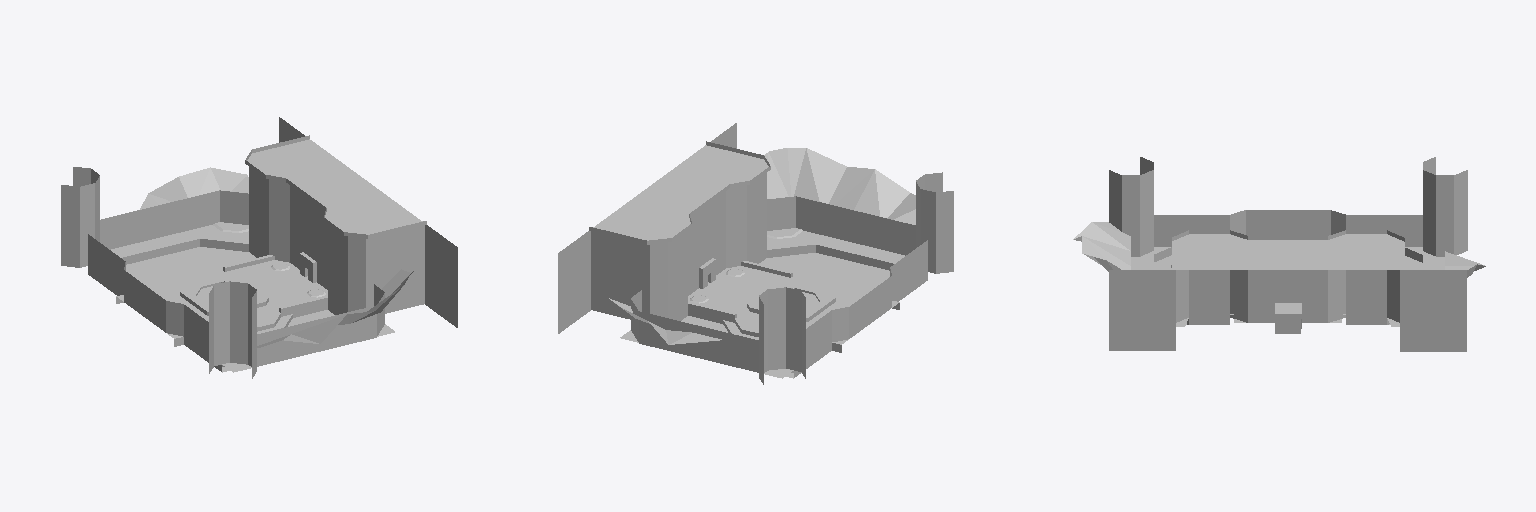
Rendered from Castle Courtyard.obj.
3 views of the same model, side by side, from view 1: azimuth 30°, elevation 25°; view 2: azimuth 150°, elevation 25°; view 3: azimuth 270°, elevation 25° (orthographic).
Visible parts, largest first — view 1: Shape_IndexedFaceSet.019_Shape_IndexedFaceSet.433, Shape_IndexedFaceSet.020_Shape_IndexedFaceSet.434, Shape_IndexedFaceSet.014_Shape_IndexedFaceSet.428, Shape_IndexedFaceSet.018_Shape_IndexedFaceSet.432, Shape_IndexedFaceSet.012_Shape_IndexedFaceSet.426, Shape_IndexedFaceSet.013_Shape_IndexedFaceSet.427, Shape_IndexedFaceSet.048_Shape_IndexedFaceSet.462; view 2: Shape_IndexedFaceSet.019_Shape_IndexedFaceSet.433, Shape_IndexedFaceSet.020_Shape_IndexedFaceSet.434, Shape_IndexedFaceSet.018_Shape_IndexedFaceSet.432, Shape_IndexedFaceSet.014_Shape_IndexedFaceSet.428, Shape_IndexedFaceSet.012_Shape_IndexedFaceSet.426, Shape_IndexedFaceSet.013_Shape_IndexedFaceSet.427, Shape_IndexedFaceSet.048_Shape_IndexedFaceSet.462; view 3: Shape_IndexedFaceSet.019_Shape_IndexedFaceSet.433, Shape_IndexedFaceSet.020_Shape_IndexedFaceSet.434, Shape_IndexedFaceSet.018_Shape_IndexedFaceSet.432, Shape_IndexedFaceSet.012_Shape_IndexedFaceSet.426, Shape_IndexedFaceSet.014_Shape_IndexedFaceSet.428, Shape_IndexedFaceSet.021_Shape_IndexedFaceSet.435.
Part boxes in pixels (x1,y1,x2,y2): Shape_IndexedFaceSet.019_Shape_IndexedFaceSet.433: (181, 117, 457, 327); Shape_IndexedFaceSet.020_Shape_IndexedFaceSet.434: (61, 167, 384, 378); Shape_IndexedFaceSet.014_Shape_IndexedFaceSet.428: (111, 225, 327, 372); Shape_IndexedFaceSet.018_Shape_IndexedFaceSet.432: (140, 167, 413, 349); Shape_IndexedFaceSet.012_Shape_IndexedFaceSet.426: (116, 135, 426, 366); Shape_IndexedFaceSet.013_Shape_IndexedFaceSet.427: (126, 247, 334, 372); Shape_IndexedFaceSet.048_Shape_IndexedFaceSet.462: (253, 179, 342, 283); Shape_IndexedFaceSet.019_Shape_IndexedFaceSet.433: (558, 123, 834, 333); Shape_IndexedFaceSet.020_Shape_IndexedFaceSet.434: (631, 172, 953, 384); Shape_IndexedFaceSet.018_Shape_IndexedFaceSet.432: (609, 148, 915, 344); Shape_IndexedFaceSet.014_Shape_IndexedFaceSet.428: (688, 231, 904, 378); Shape_IndexedFaceSet.012_Shape_IndexedFaceSet.426: (589, 141, 899, 372); Shape_IndexedFaceSet.013_Shape_IndexedFaceSet.427: (681, 253, 889, 378); Shape_IndexedFaceSet.048_Shape_IndexedFaceSet.462: (673, 184, 762, 289); Shape_IndexedFaceSet.019_Shape_IndexedFaceSet.433: (1109, 234, 1466, 351); Shape_IndexedFaceSet.020_Shape_IndexedFaceSet.434: (1109, 157, 1467, 256); Shape_IndexedFaceSet.018_Shape_IndexedFaceSet.432: (1073, 222, 1485, 277); Shape_IndexedFaceSet.012_Shape_IndexedFaceSet.426: (1154, 230, 1422, 324); Shape_IndexedFaceSet.014_Shape_IndexedFaceSet.428: (1131, 247, 1444, 326); Shape_IndexedFaceSet.021_Shape_IndexedFaceSet.435: (1275, 303, 1301, 333).
Bounding box in the file's own units: 6.14 × 2.35 × 9.46.